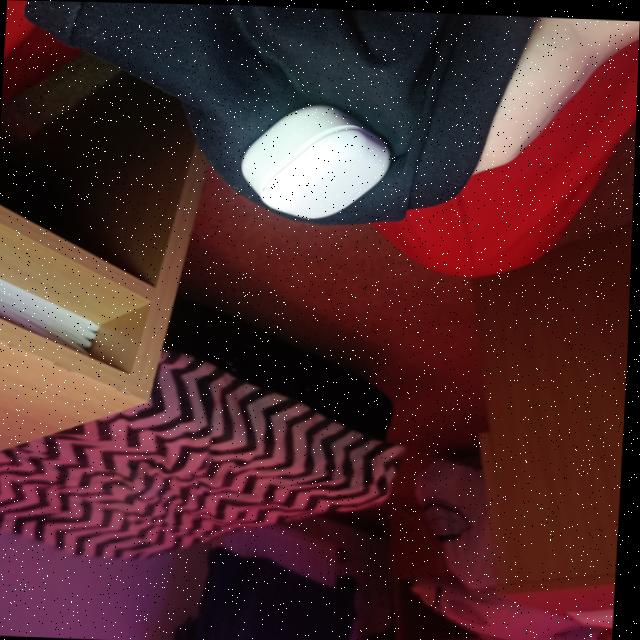headphones: (241, 103, 391, 216)
